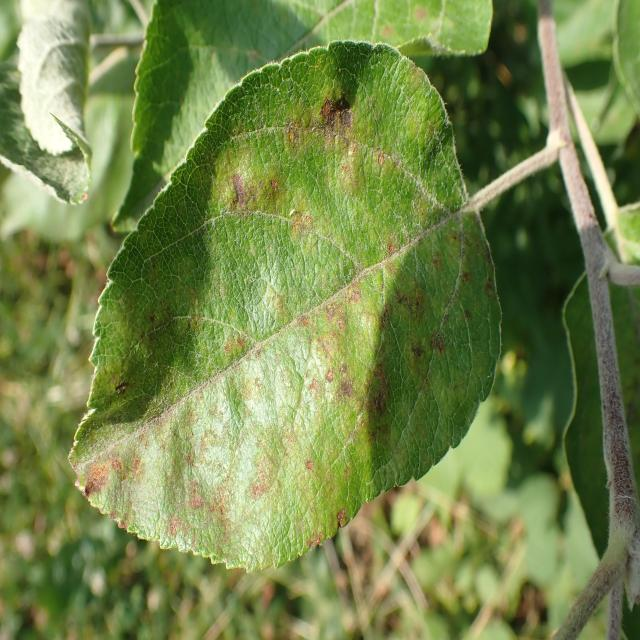scab: (88, 68, 511, 540)
